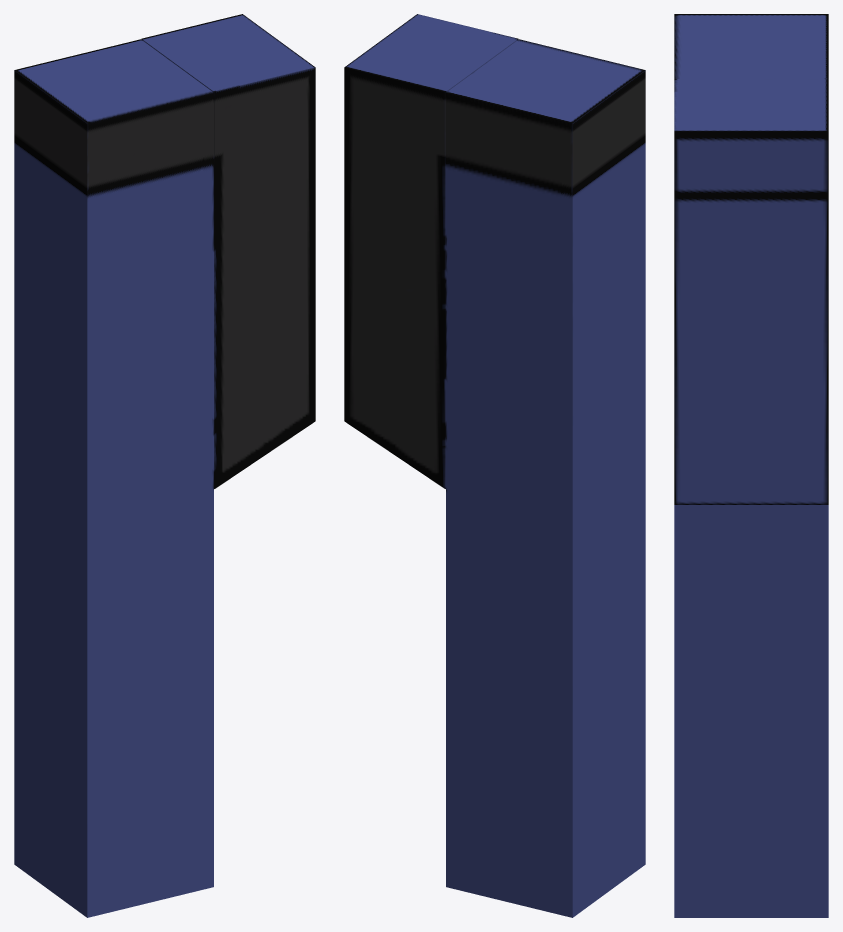
The model's file is buil_7.fbx.
3 views of the same model, side by side, from view 1: azimuth 30°, elevation 25°; view 2: azimuth 150°, elevation 25°; view 3: azimuth 270°, elevation 25° (orthographic). The views are drawn at different scales.
Visible parts, largest first — view 1: node_id5; view 2: node_id5; view 3: node_id5.
Boxes of the visible parts, x1,y1,x2,y2 form: node_id5: (14, 14, 315, 917); node_id5: (344, 14, 645, 917); node_id5: (674, 14, 828, 917).
Size of the model in its own units: 0.154 by 0.512 by 0.0853.
Materials: 1 (1 with a texture image).
